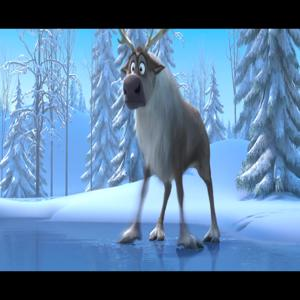sven: (120, 30, 231, 251)
